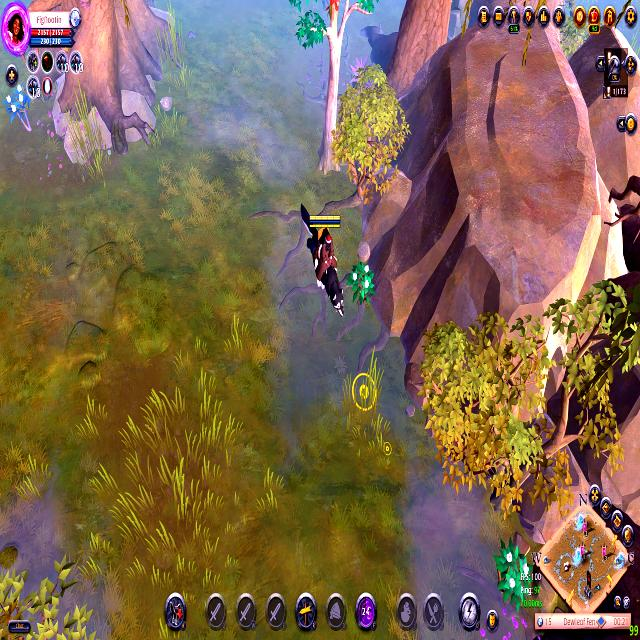hide: (490, 528, 534, 614), (1, 70, 41, 139), (345, 256, 376, 326)
red: (296, 192, 347, 319)
wisp caged: (288, 0, 379, 176)
